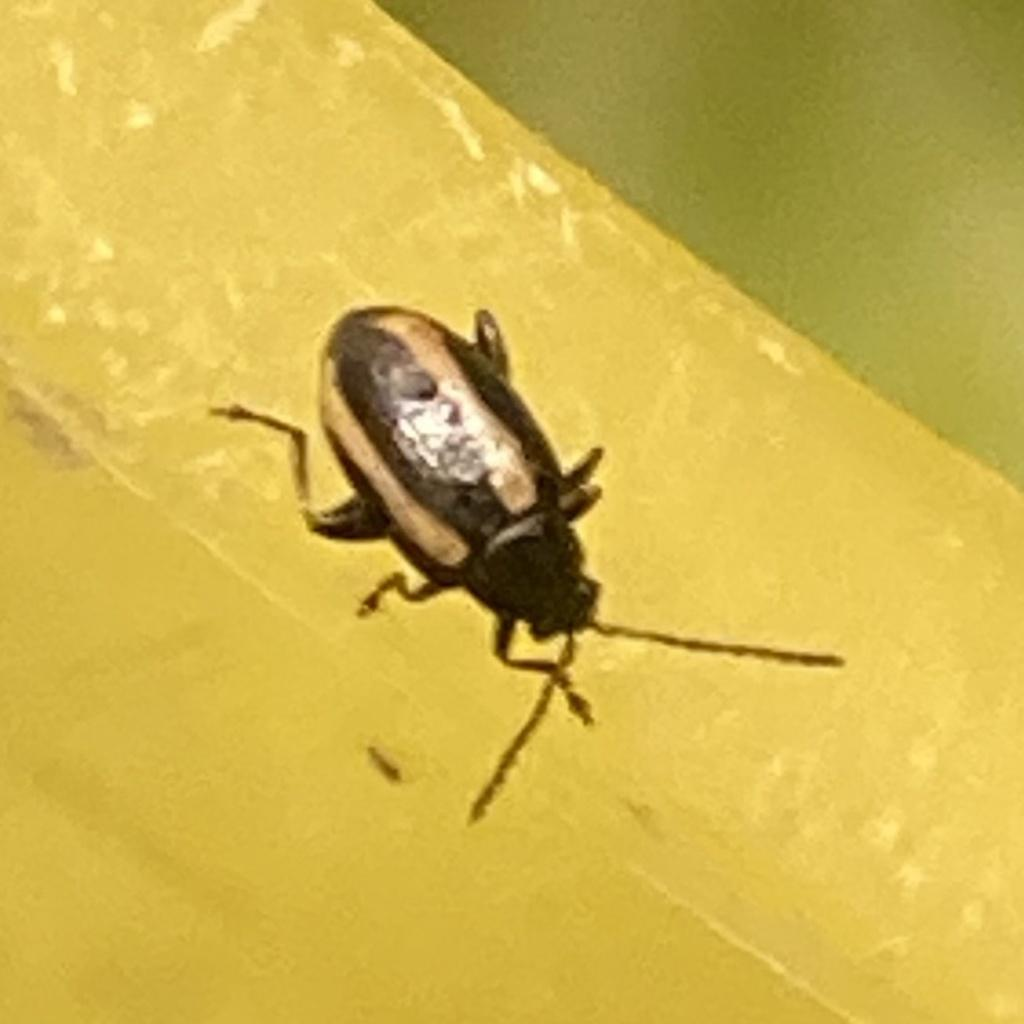flea_beetle: (178, 222, 899, 876)
